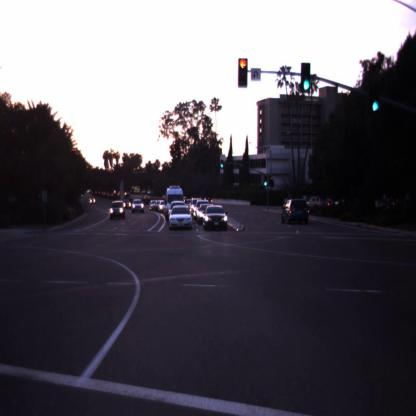trafficlight: (299, 62, 312, 94), (370, 89, 382, 118), (239, 58, 248, 87), (264, 174, 268, 186), (220, 160, 224, 169)
